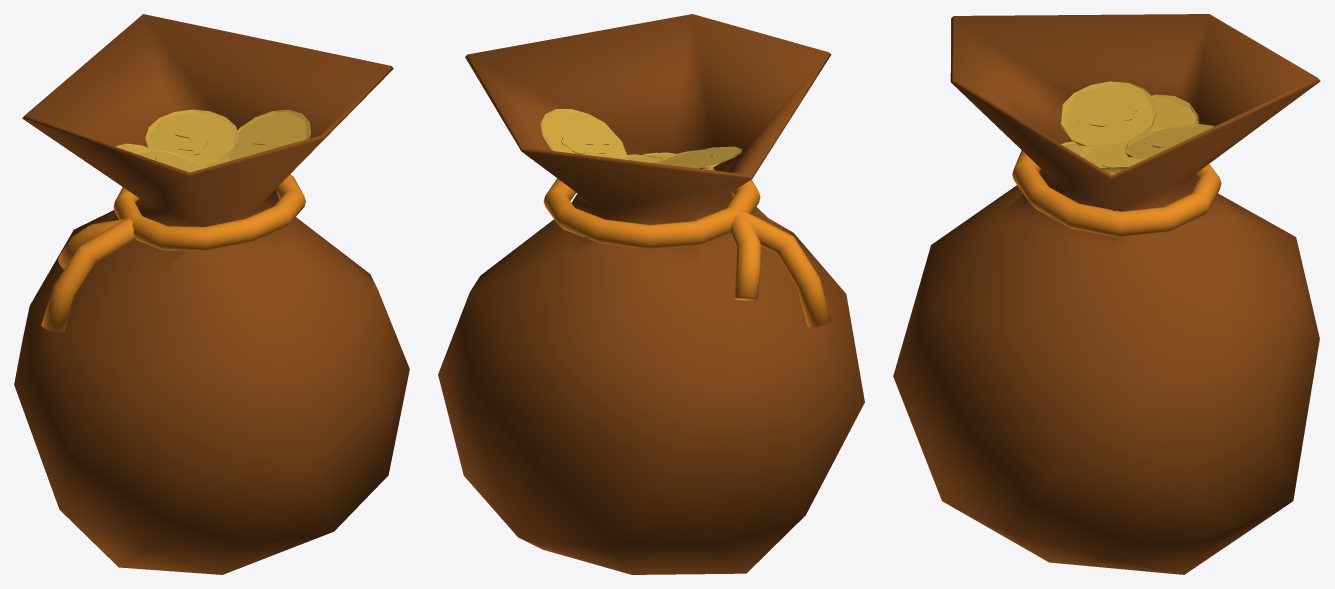
File: BagOfCoins.fbx
The picture shows the model from 3 angles, left to right: view 1: azimuth 30°, elevation 25°; view 2: azimuth 150°, elevation 25°; view 3: azimuth 270°, elevation 25°; orthographic projection. The views are drawn at different scales.
Visible parts, largest first — view 1: Icosphere, BezierCircle, Cylinder.008, Cylinder.007, Cylinder.004; view 2: Icosphere, BezierCircle, Cylinder.007, Cylinder.004; view 3: Icosphere, BezierCircle, Cylinder.004, Cylinder.008, Cylinder.003, Cylinder.
Boxes of the visible parts, left/top/right/bottom form: Icosphere: left=14, top=14, right=409, bottom=574; BezierCircle: left=41, top=174, right=305, bottom=332; Cylinder.008: left=145, top=109, right=239, bottom=165; Cylinder.007: left=224, top=109, right=311, bottom=162; Cylinder.004: left=132, top=148, right=206, bottom=172; Icosphere: left=438, top=14, right=864, bottom=574; BezierCircle: left=543, top=178, right=831, bottom=327; Cylinder.007: left=540, top=109, right=628, bottom=158; Cylinder.004: left=653, top=146, right=741, bottom=168; Icosphere: left=893, top=14, right=1320, bottom=574; BezierCircle: left=1012, top=150, right=1221, bottom=237; Cylinder.004: left=1059, top=81, right=1157, bottom=147; Cylinder.008: left=1125, top=123, right=1214, bottom=158; Cylinder.003: left=1150, top=94, right=1198, bottom=130; Cylinder: left=1079, top=143, right=1146, bottom=174.
Bounding box in the file's own units: 190 × 238 × 187.
